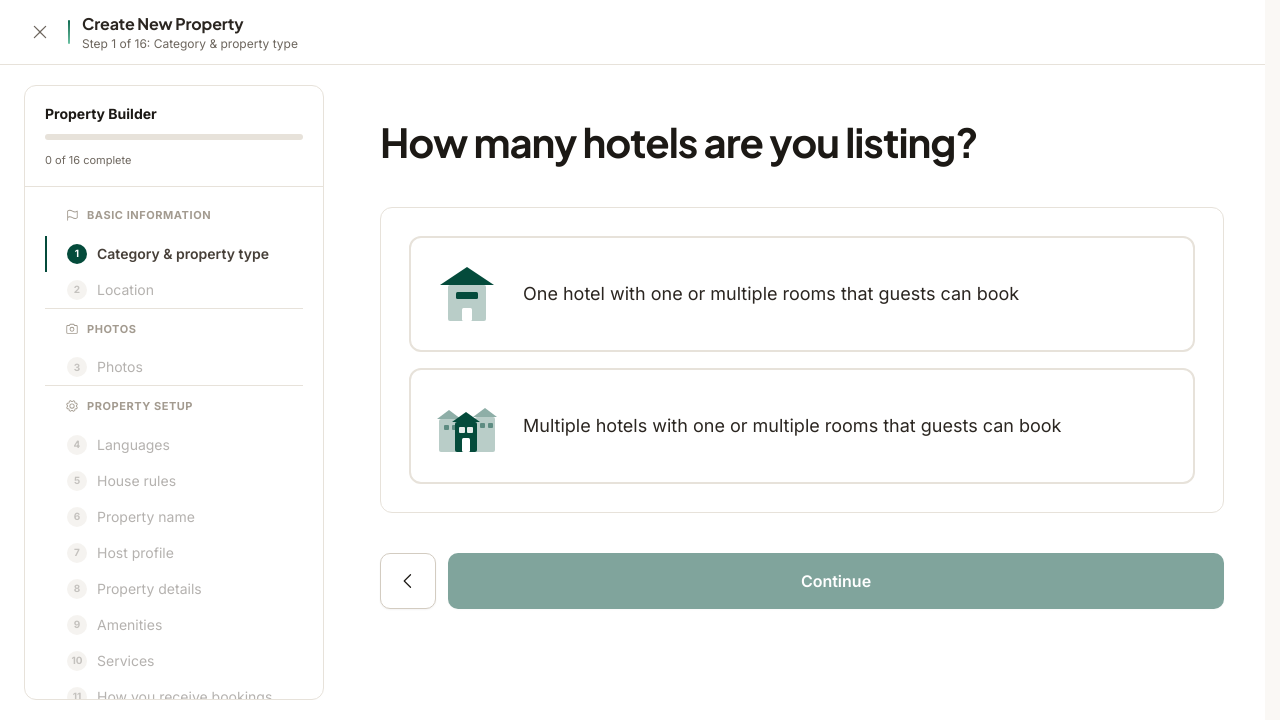
PropertyHomeCountPage — how many are you listing › goes back to the hotel category list for the hotel chain
Click the button named "Back". click: point(408, 581)
box: [380, 553, 436, 609]
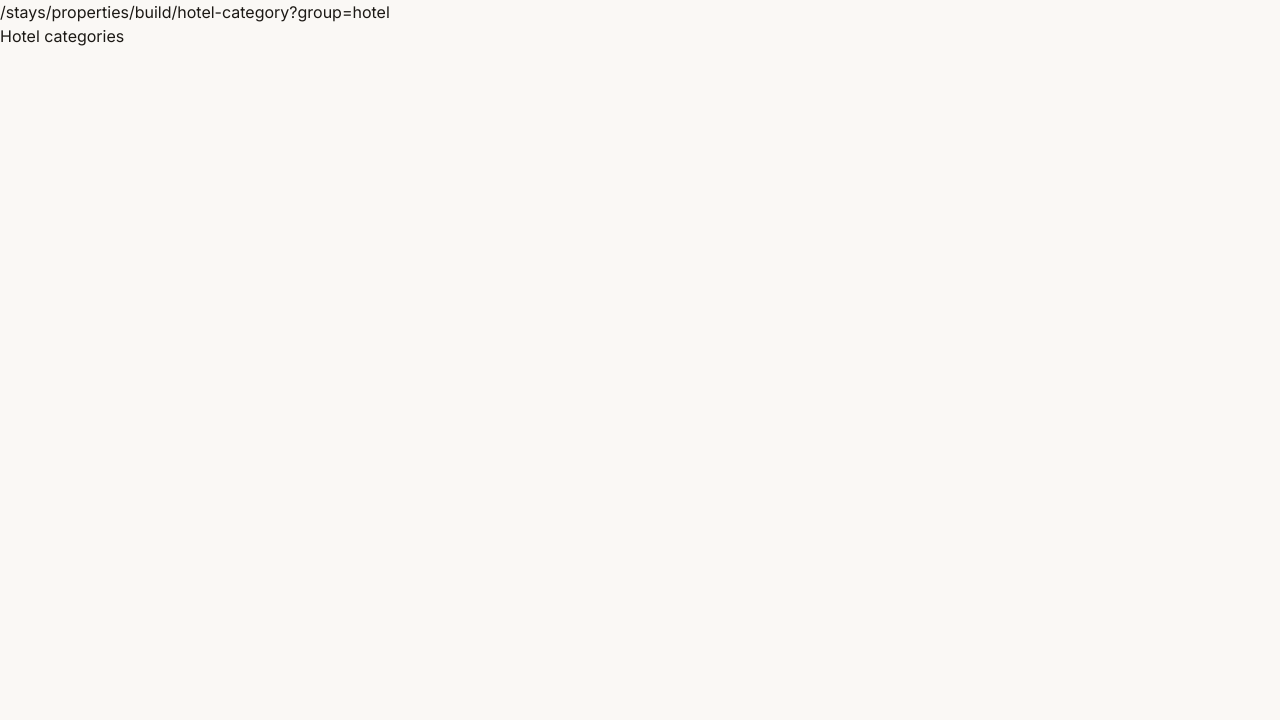
Expected: the text with test id "location" reads "/stays/properties/build/hotel-category?group=hotel", [0, 2, 390, 22]
